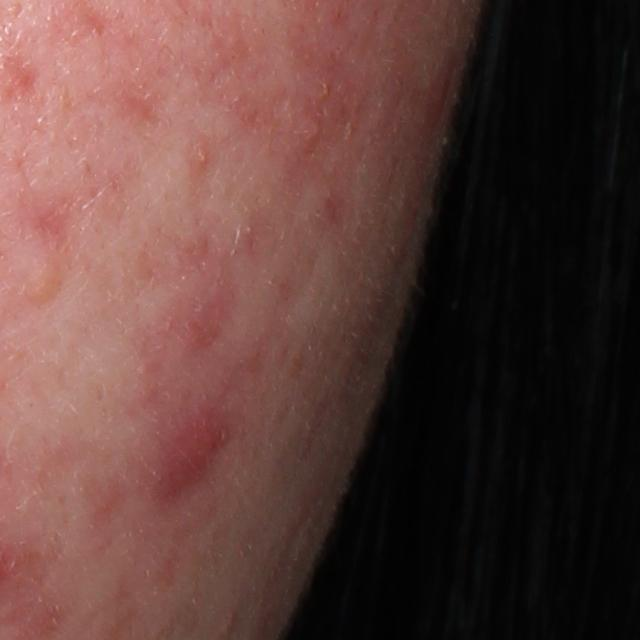papule: (165, 412, 224, 495), (21, 258, 66, 306)
